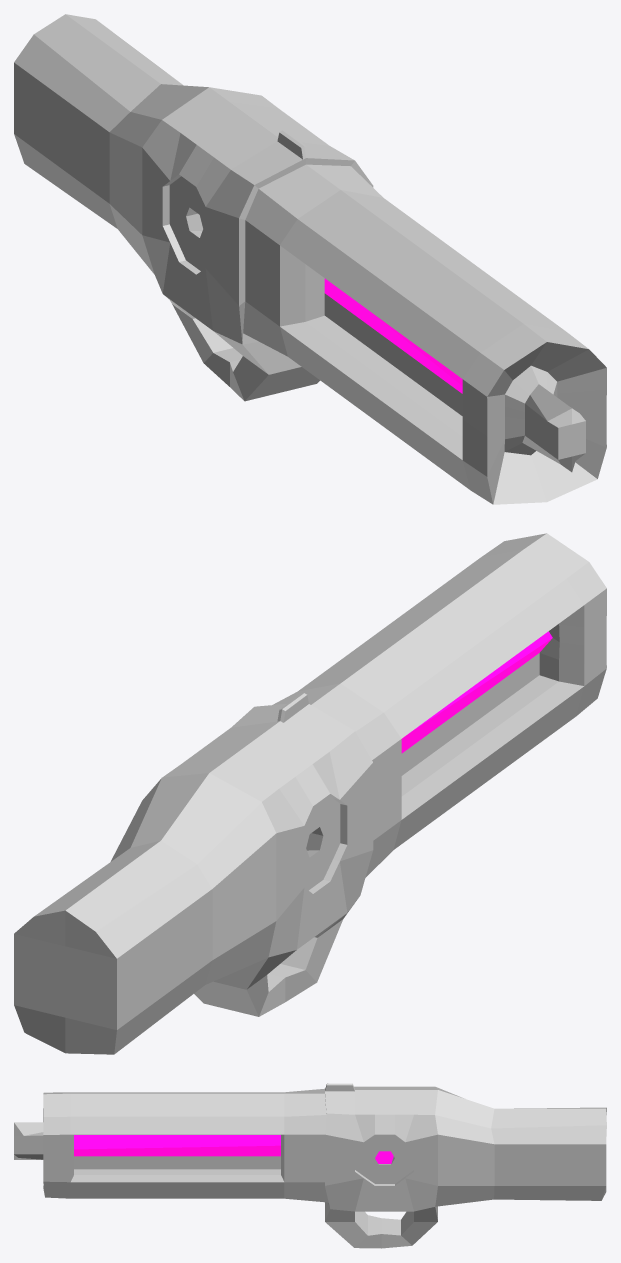
The model's file is TestingWeapon.fbx.
The picture shows the model from 3 angles, top to bottom: view 1: azimuth 30°, elevation 25°; view 2: azimuth 150°, elevation 25°; view 3: azimuth 270°, elevation 25°; orthographic projection. The views are drawn at different scales.
Parts seen in each view (by area): view 1: TestingWeapon; view 2: TestingWeapon; view 3: TestingWeapon.
Part boxes in pixels (<box>): TestingWeapon: <box>14,14,606,504</box>; TestingWeapon: <box>14,533,606,1054</box>; TestingWeapon: <box>14,1083,606,1248</box>.
Bounding box in the file's own units: 160 × 306 × 1048.
